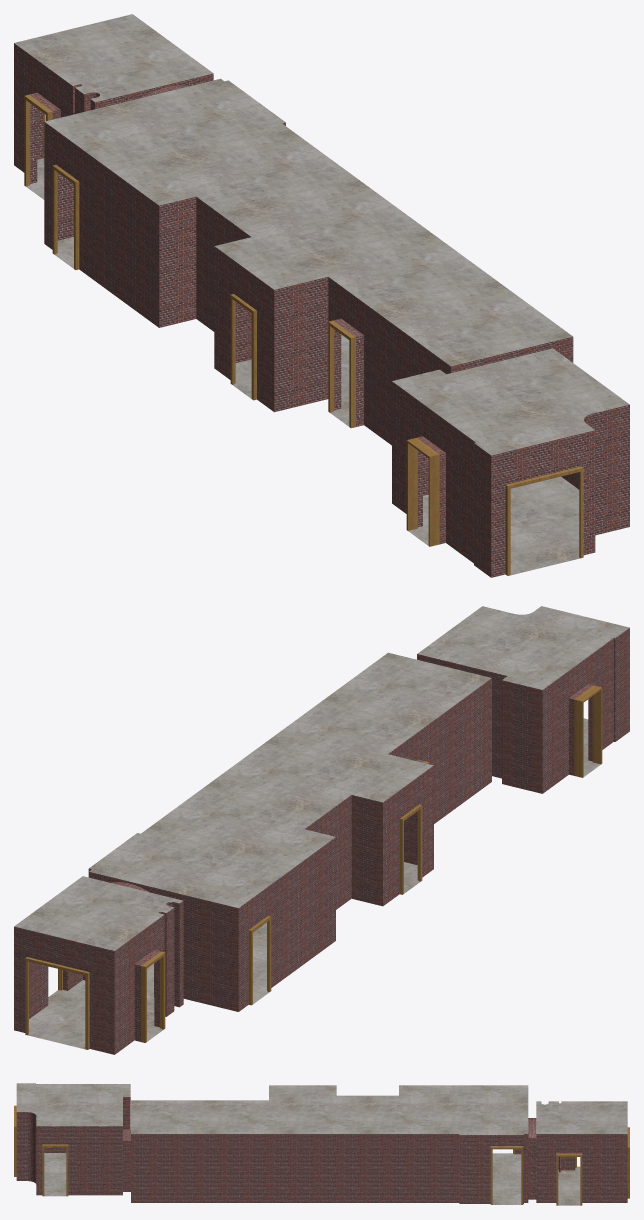
File: Export_3rd Floor Hallway.fbx
3 views of the same model, one above another, from view 1: azimuth 30°, elevation 25°; view 2: azimuth 150°, elevation 25°; view 3: azimuth 270°, elevation 25° (orthographic). The views are drawn at different scales.
Parts seen in each view (by area): view 1: Ceiling, Walls, Floor, Door Frame; view 2: Walls, Ceiling, Door Frame, Floor; view 3: Walls, Ceiling, Floor, Door Frame.
Part boxes in pixels (x1=…): Ceiling: x1=14, y1=14, x2=629, y2=455; Walls: x1=14, y1=43, x2=629, y2=577; Floor: x1=26, y1=158, x2=580, y2=575; Door Frame: x1=24, y1=94, x2=583, y2=575; Walls: x1=14, y1=628, x2=629, y2=1054; Ceiling: x1=14, y1=606, x2=629, y2=950; Door Frame: x1=25, y1=685, x2=602, y2=1049; Floor: x1=28, y1=718, x2=600, y2=1049; Walls: x1=16, y1=1097, x2=627, y2=1203; Ceiling: x1=16, y1=1083, x2=627, y2=1134; Floor: x1=44, y1=1153, x2=580, y2=1205; Door Frame: x1=14, y1=1105, x2=629, y2=1205.
Size of the model in its own units: 5290 by 24117 by 2978.
3 materials, 3 textured.
